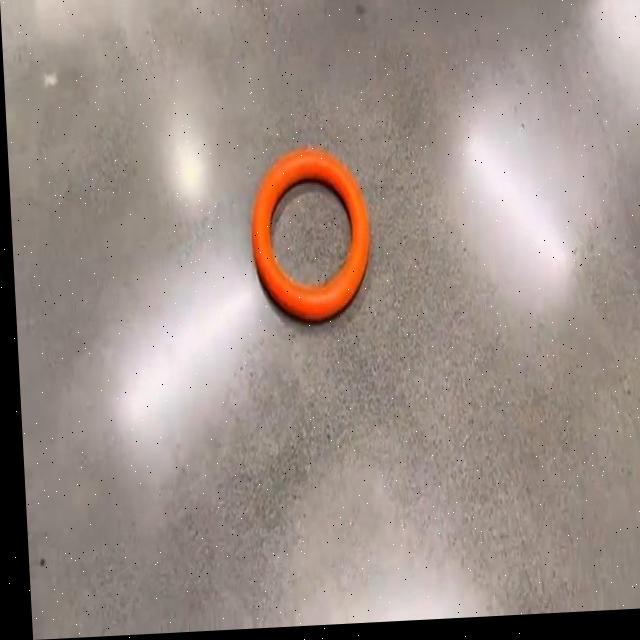note: (250, 149, 371, 325)
